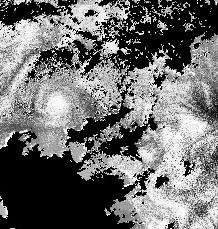CE: (34, 83, 80, 127)
